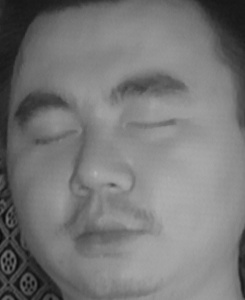blink: (124, 106, 178, 141), (27, 117, 78, 154)
mouth: (60, 203, 148, 261)
